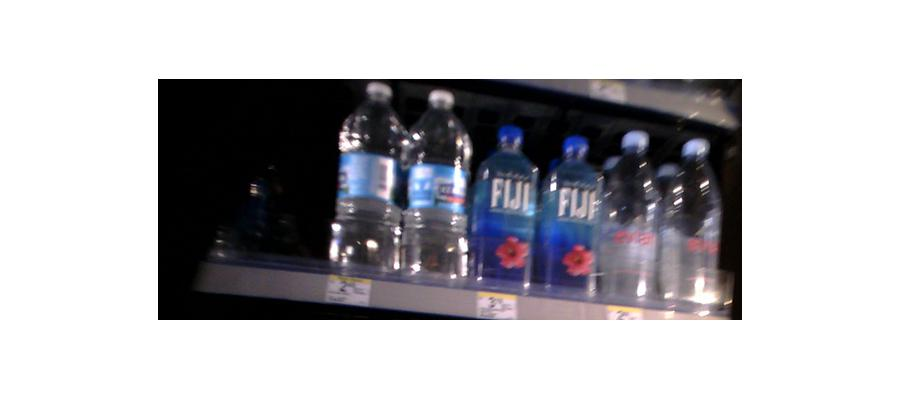bottle: (331, 84, 402, 275), (404, 90, 470, 279), (472, 121, 541, 291), (662, 136, 722, 310), (543, 134, 607, 296), (606, 129, 661, 306)
